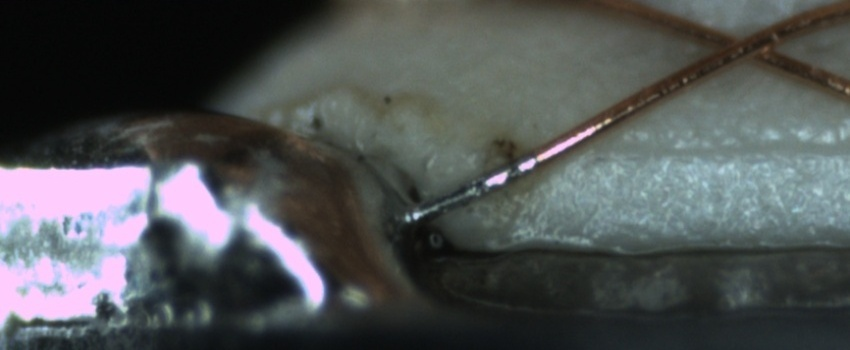CL: (699, 17, 792, 72)
DL: (578, 121, 849, 185)
TS: (407, 153, 540, 225)
